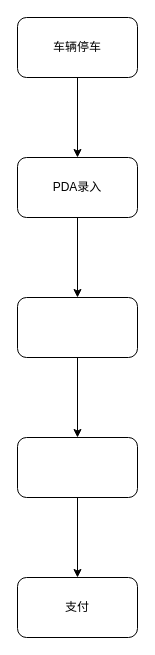
Image size: 155x655. Some labels were removed from this diagram. Here are the shapes that lost their labels. From the top down, the box of each, then its label:
(16, 296, 138, 358): 服务端计费
(16, 436, 138, 498): 生成订单
